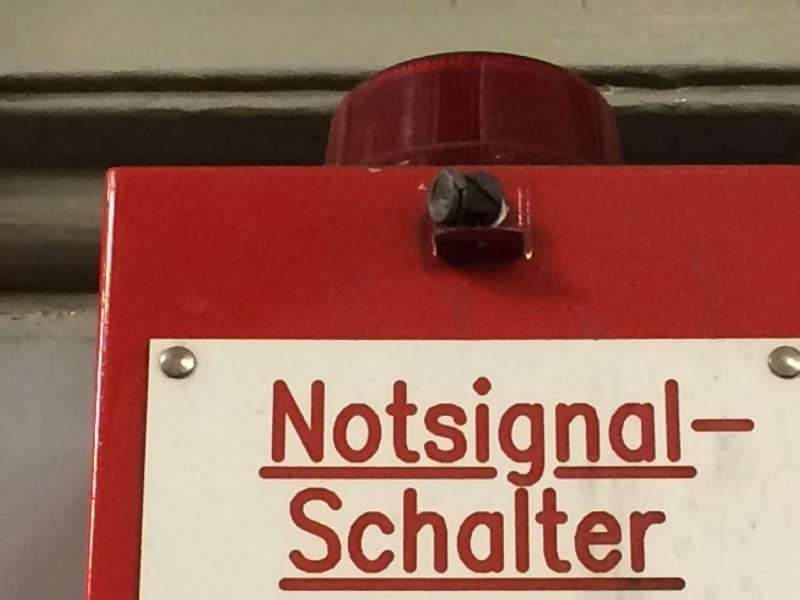text: (289, 377, 304, 491), (305, 377, 320, 491), (321, 377, 336, 491), (337, 377, 352, 491), (353, 377, 368, 491), (369, 377, 384, 491), (385, 377, 400, 491), (401, 377, 416, 491), (417, 377, 432, 491), (433, 377, 448, 491), (449, 377, 464, 491), (465, 377, 480, 491), (481, 377, 496, 491), (497, 377, 512, 491), (513, 377, 528, 491), (529, 377, 544, 491), (545, 377, 560, 491), (561, 377, 576, 491), (577, 377, 592, 491), (593, 377, 608, 491), (609, 377, 624, 491), (625, 377, 640, 491), (641, 377, 656, 491), (657, 377, 672, 491), (673, 377, 688, 491), (689, 377, 704, 491), (705, 377, 720, 491), (721, 377, 736, 491), (737, 377, 752, 491), (274, 377, 288, 491), (289, 488, 304, 576), (305, 488, 320, 576), (321, 488, 336, 576), (337, 488, 352, 576), (353, 488, 368, 576), (369, 488, 384, 576), (385, 488, 400, 576), (401, 488, 416, 576), (417, 488, 432, 576), (433, 488, 448, 576), (449, 488, 464, 576), (465, 488, 480, 576), (481, 488, 496, 576), (497, 488, 512, 576), (513, 488, 528, 576), (529, 488, 544, 576), (545, 488, 560, 576), (561, 488, 576, 576), (577, 488, 592, 576), (593, 488, 608, 576), (609, 488, 624, 576), (625, 488, 640, 576), (641, 488, 656, 576), (657, 488, 669, 576), (753, 377, 758, 491)
